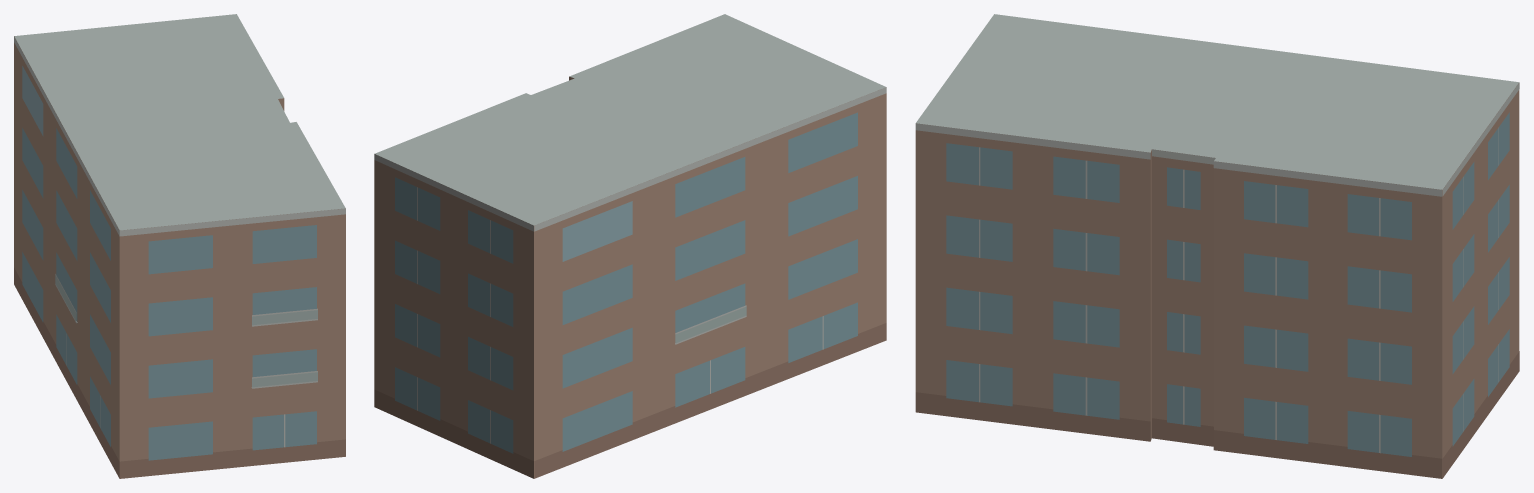
File: survey-upis-32529645.glb
3 renders of one model, left to right at view 1: azimuth 30°, elevation 25°; view 2: azimuth 150°, elevation 25°; view 3: azimuth 270°, elevation 25°, orthographic. The views are drawn at different scales.
Parts seen in each view (by area): view 1: survey-upis-32529645.tmp; view 2: survey-upis-32529645.tmp; view 3: survey-upis-32529645.tmp.
Boxes of the visible parts, left/top/right/bottom form: survey-upis-32529645.tmp: left=14, top=14, right=345, bottom=478; survey-upis-32529645.tmp: left=374, top=14, right=886, bottom=478; survey-upis-32529645.tmp: left=915, top=14, right=1519, bottom=478.
Size of the model in its own units: 13.15 by 10.07 by 19.08.
